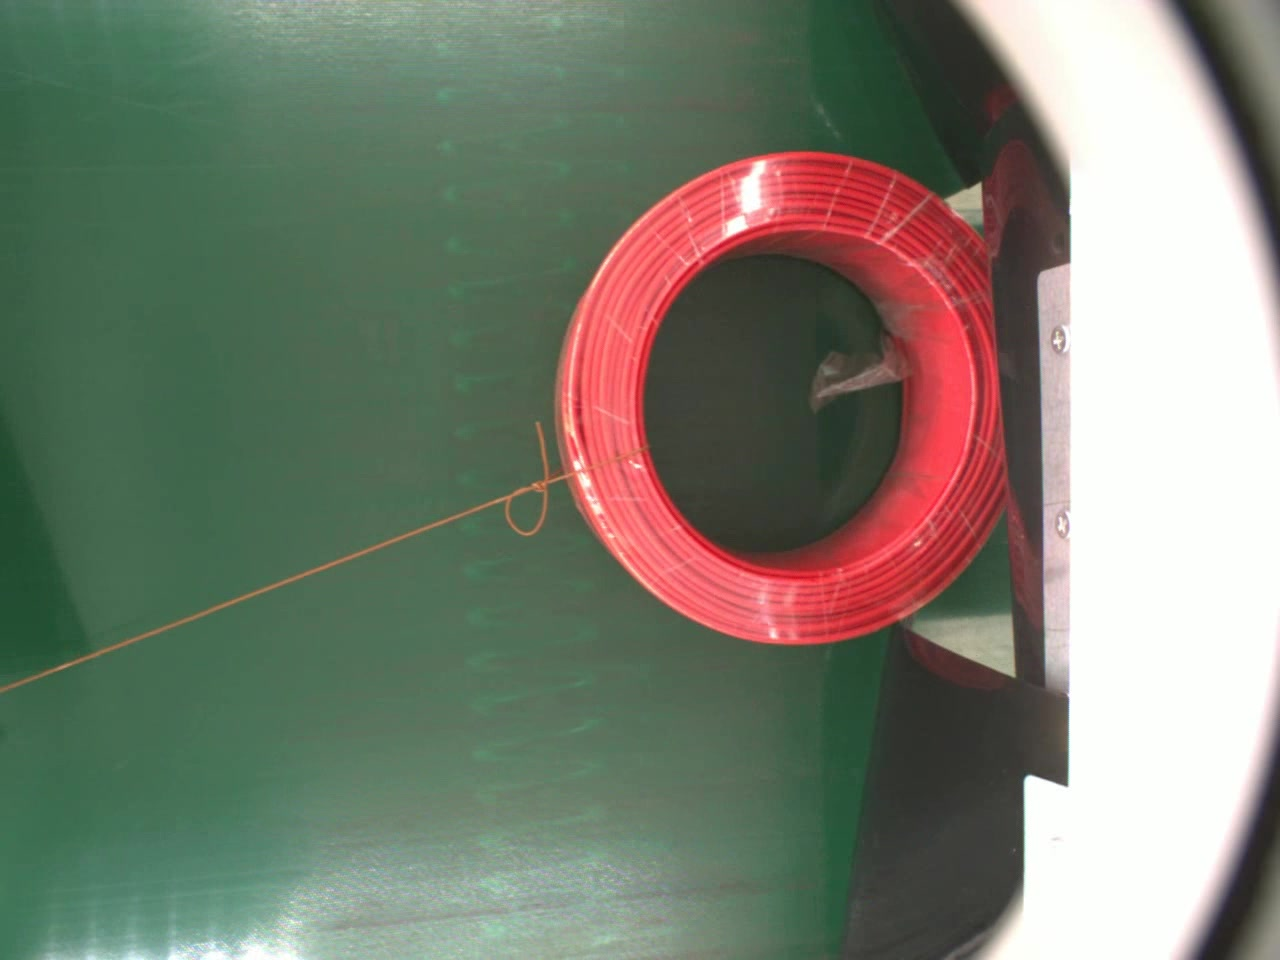red: (553, 149, 1008, 652)
